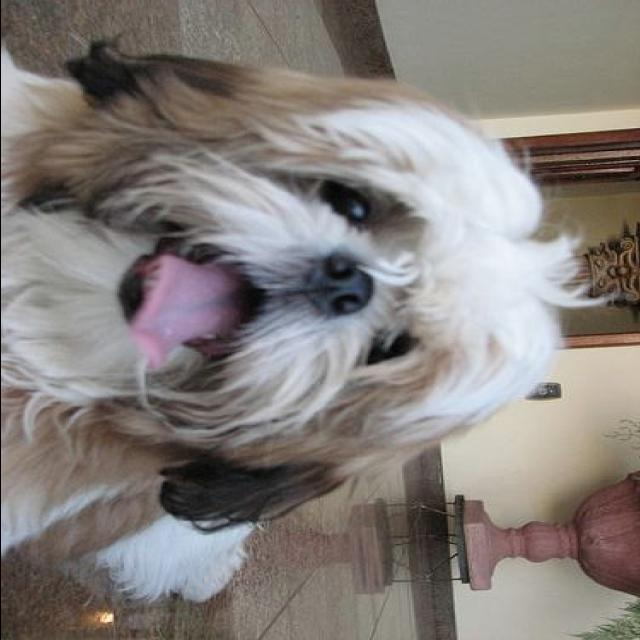shih_tzu: (2, 26, 620, 612)
